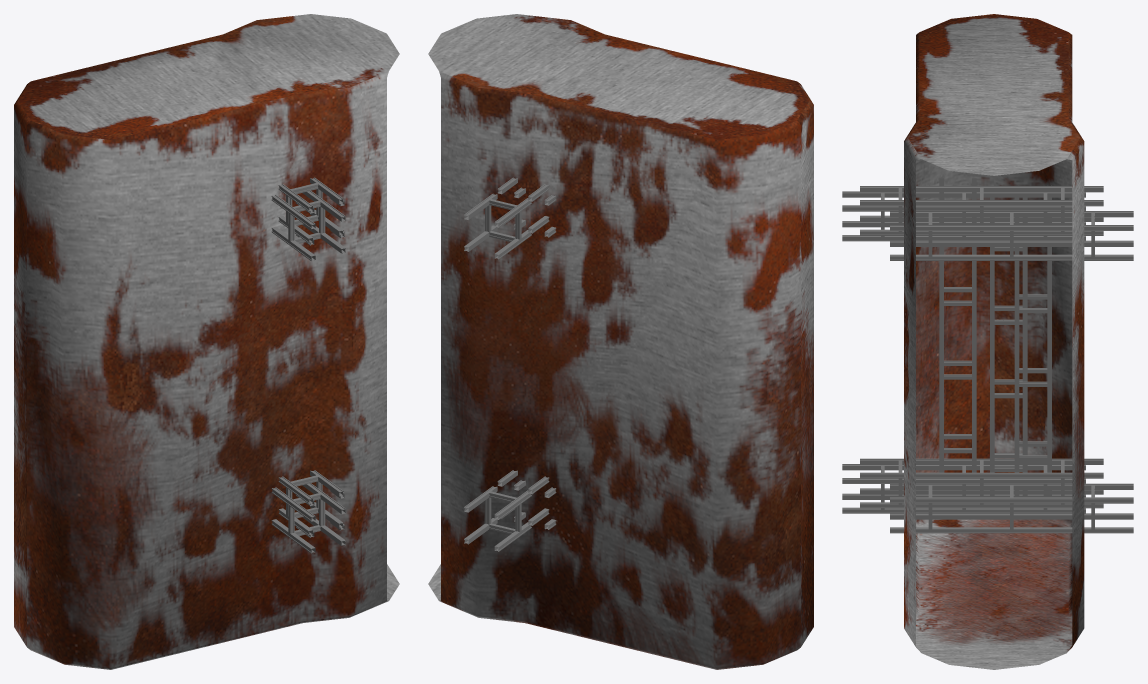
The model's file is DontBoomGameBackGround.fbx.
The picture shows the model from 3 angles, left to right: view 1: azimuth 30°, elevation 25°; view 2: azimuth 150°, elevation 25°; view 3: azimuth 270°, elevation 25°; orthographic projection. The views are drawn at different scales.
Parts seen in each view (by area): view 1: Stage.001, Bones1.002, Bones1.008, Bones1.006, Bones1; view 2: Stage.001, Bones1.001, Bones1.007; view 3: Stage.001, Bones1.007, Bones1.001, Bones1.006, Bones1, Bones1.002, Bones1.008, Bones1.004, Bones1.003, Bones1.005.
Part boxes in pixels (x1,y1,x2,y2): Stage.001: [14, 14, 399, 669]; Bones1.002: [271, 190, 345, 260]; Bones1.008: [271, 483, 345, 553]; Bones1.006: [278, 470, 343, 535]; Bones1: [278, 177, 343, 243]; Stage.001: [428, 14, 813, 669]; Bones1.001: [464, 193, 531, 259]; Bones1.007: [464, 486, 531, 551]; Stage.001: [904, 14, 1084, 669]; Bones1.007: [890, 483, 1133, 533]; Bones1.001: [890, 211, 1133, 260]; Bones1.006: [860, 458, 1103, 508]; Bones1: [860, 186, 1103, 235]; Bones1.002: [842, 191, 1085, 241]; Bones1.008: [842, 464, 1085, 513]; Bones1.004: [1014, 185, 1051, 495]; Bones1.003: [939, 178, 976, 472]; Bones1.005: [990, 197, 1027, 497].
Size of the model in its own units: 2060 by 2900 by 1549.
